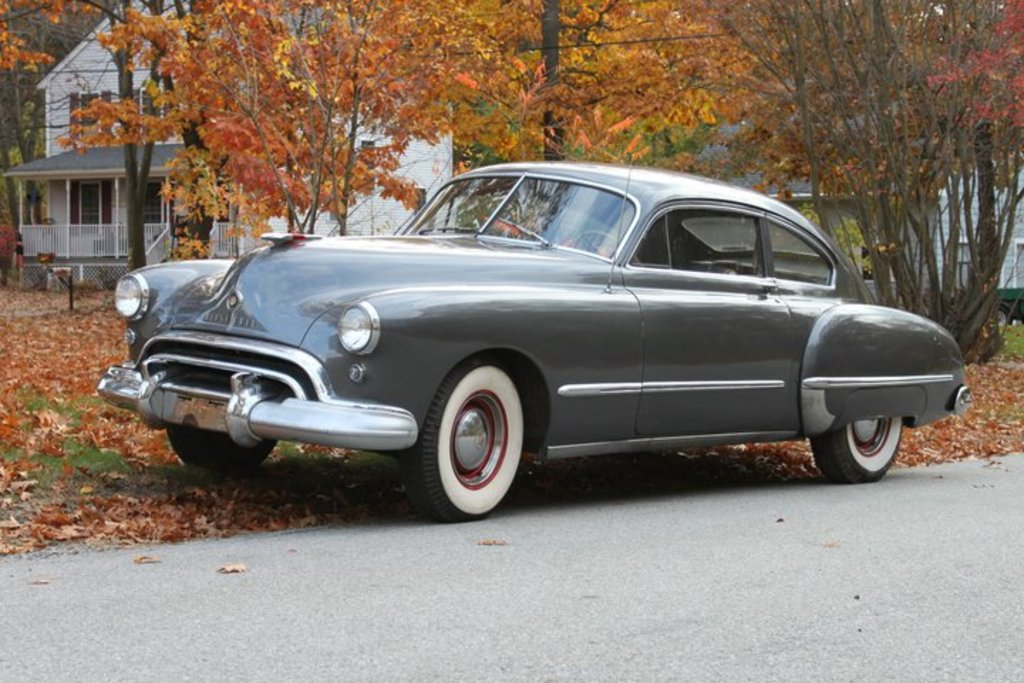Car: (96, 155, 973, 521)
